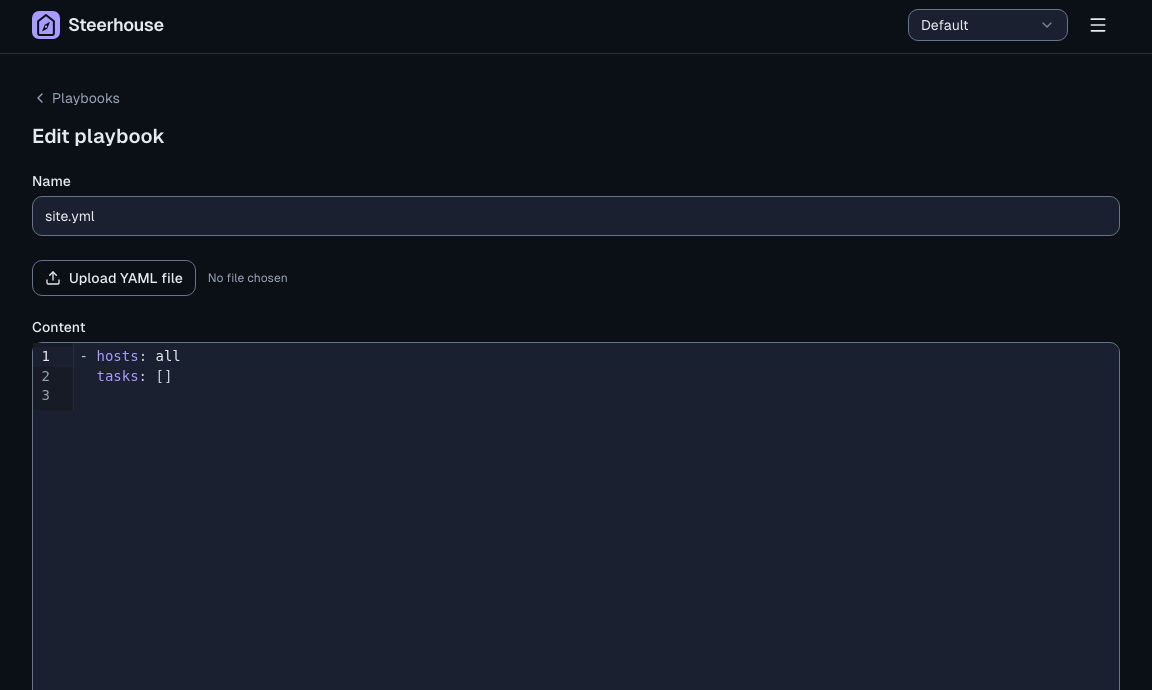
Test case: playbook editor › saves edits and shows refusals
Type "x" into the field named "Content" at (596, 365), box [74, 347, 1119, 384]
(page scrolled)
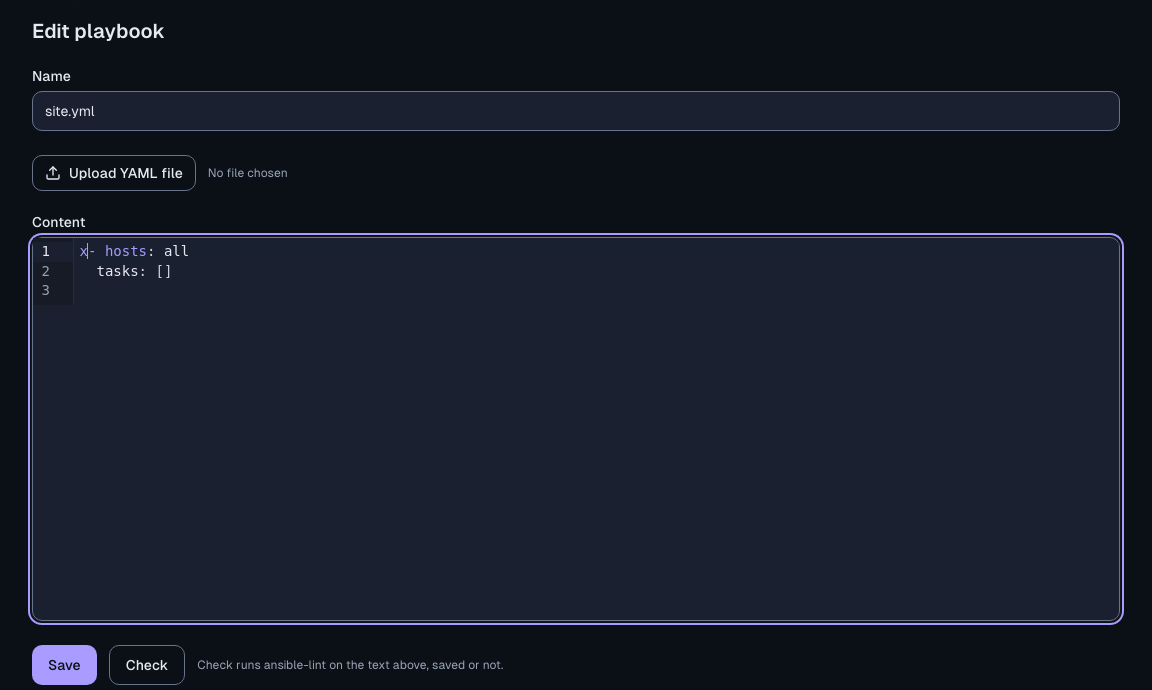
Click the button "Save" at (64, 665), box [32, 645, 97, 685]
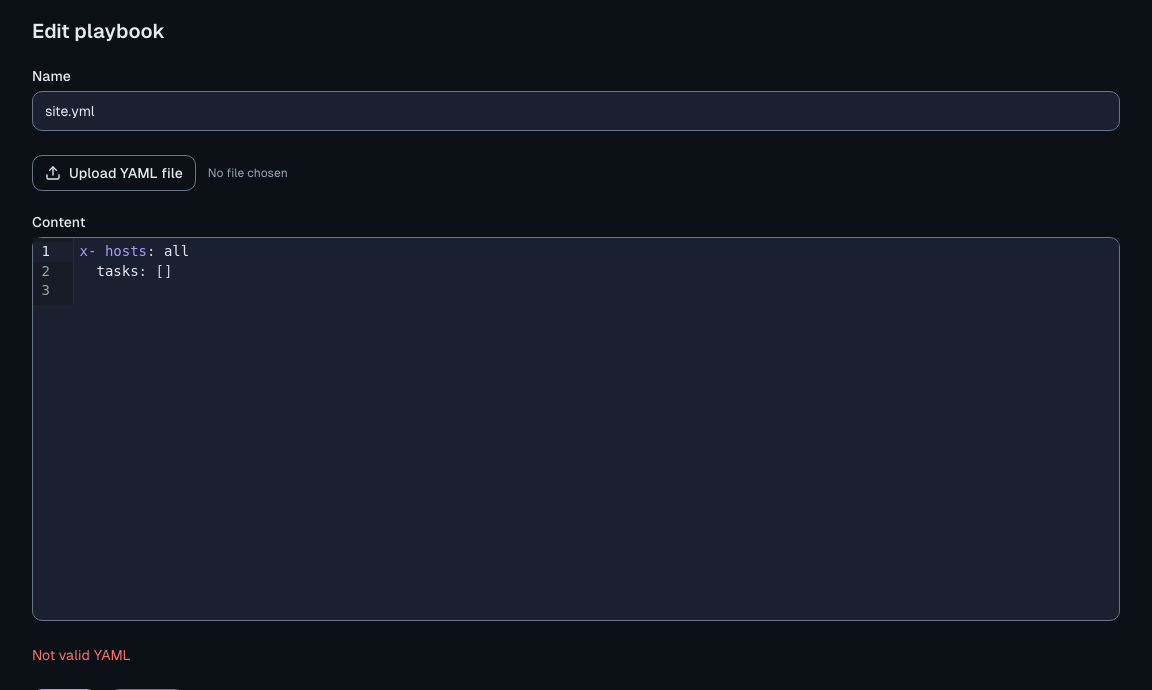
Check: the text "Not valid YAML" is shown, box [32, 647, 131, 663]
